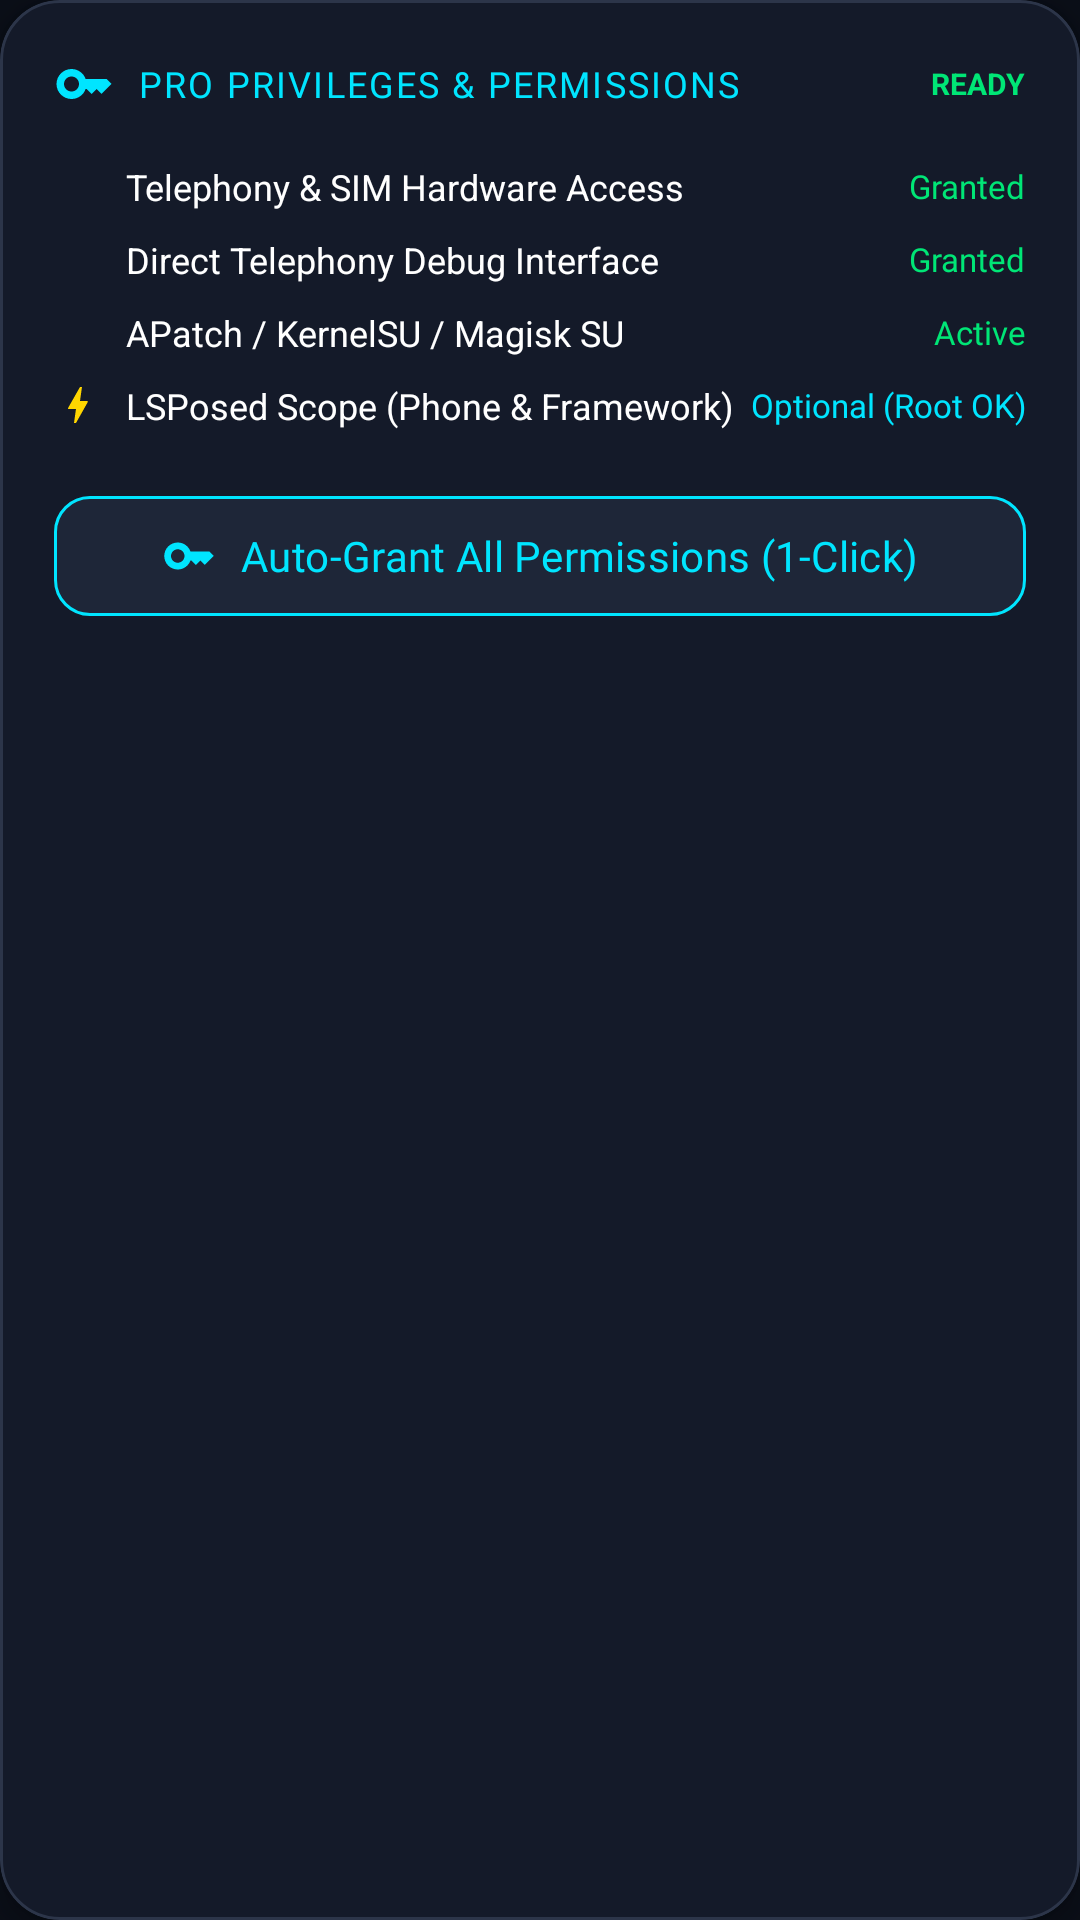

Icons on this 1080×1920 Android screen, each with its box as (x1, y1, x2, y2):
bolt: (68, 387, 88, 423)
key: (56, 69, 112, 99)
